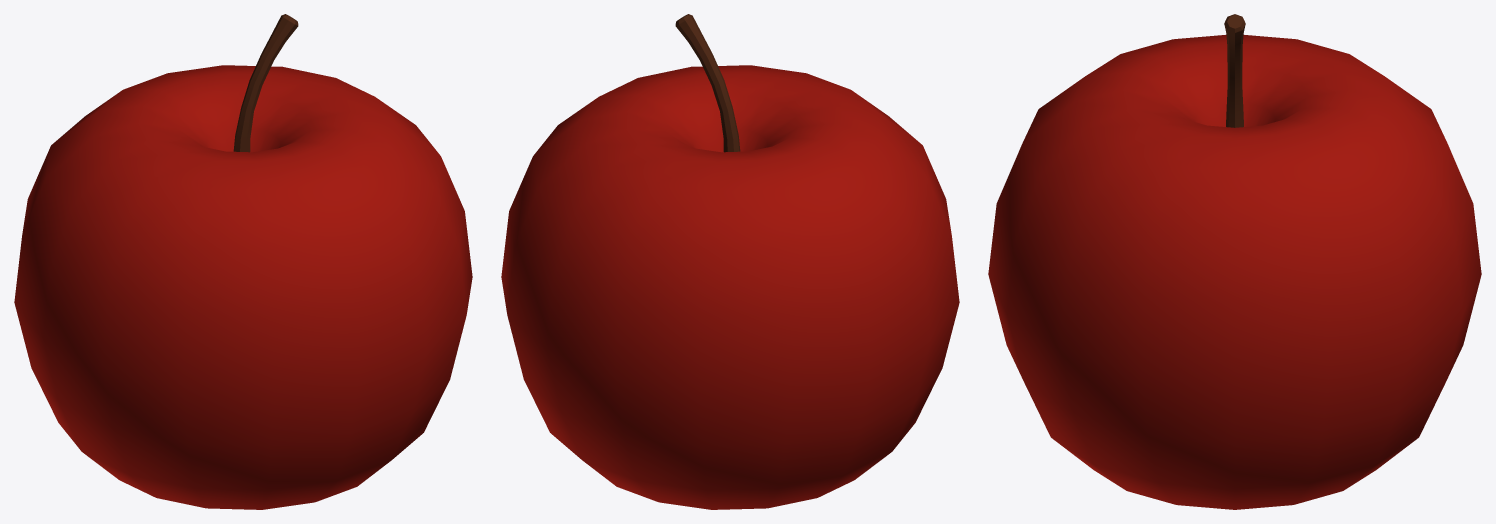
The model's file is Apple.fbx.
The picture shows the model from 3 angles, left to right: view 1: azimuth 30°, elevation 25°; view 2: azimuth 150°, elevation 25°; view 3: azimuth 270°, elevation 25°; orthographic projection. The views are drawn at different scales.
Visible parts, largest first — view 1: apple; view 2: apple; view 3: apple.
Boxes of the visible parts, box(x1,y1,x2,y2) form: apple: box(14, 14, 472, 509); apple: box(501, 14, 959, 509); apple: box(988, 14, 1481, 509).
Bounding box in the file's own units: 214 × 225 × 214.
